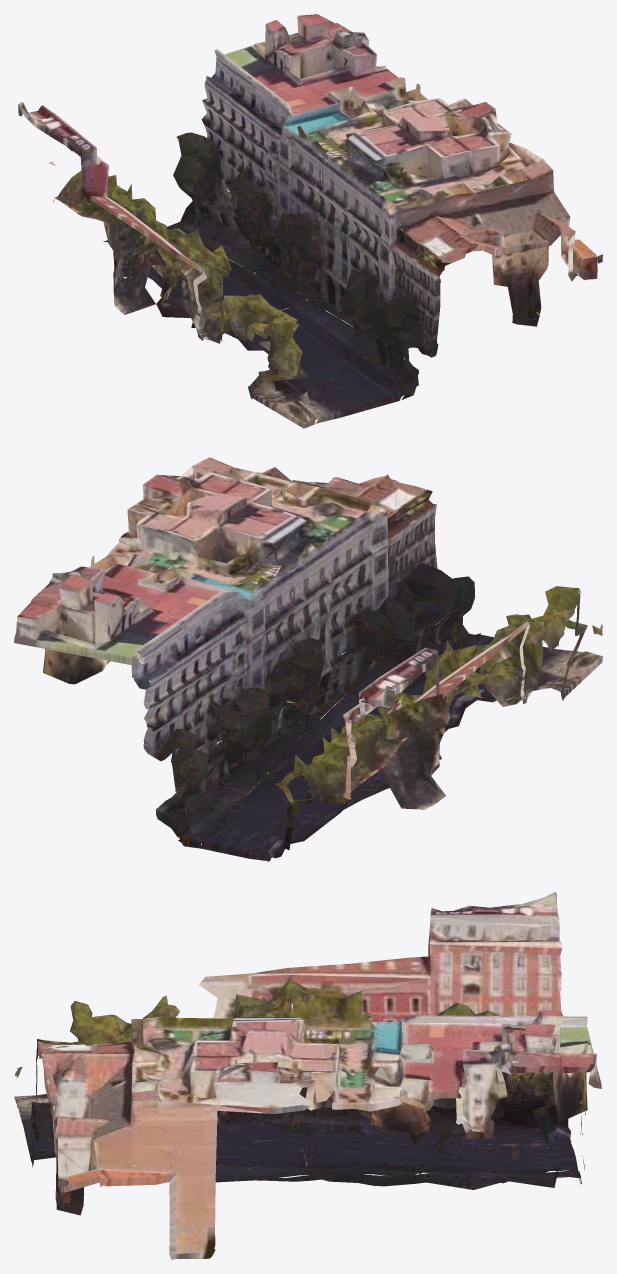
The picture shows the model from 3 angles, top to bottom: view 1: azimuth 30°, elevation 25°; view 2: azimuth 150°, elevation 25°; view 3: azimuth 270°, elevation 25°; orthographic projection. The views are drawn at different scales.
Parts seen in each view (by area): view 1: Mesh_0; view 2: Mesh_0; view 3: Mesh_0.
Part boxes in pixels (bbox=[...]): Mesh_0: bbox=[18, 14, 602, 428]; Mesh_0: bbox=[14, 457, 602, 861]; Mesh_0: bbox=[14, 892, 601, 1259].
Size of the model in its own units: 68.39 by 34.53 by 82.65.
Materials: 1 (1 with a texture image).
